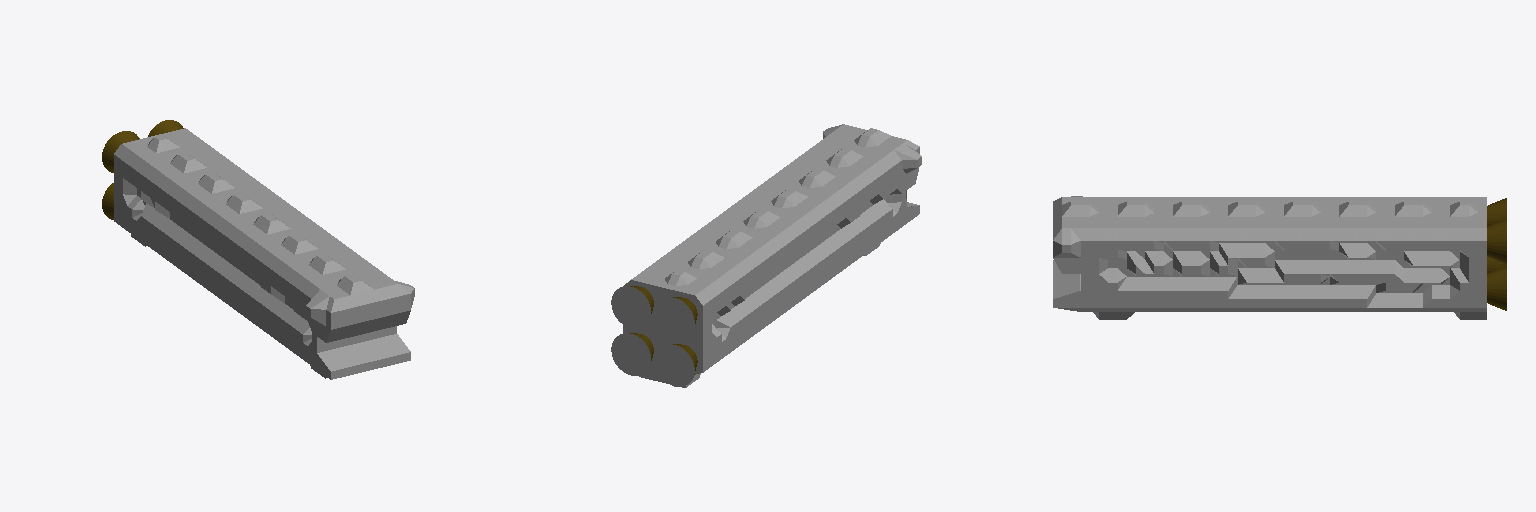
Rendered from space_ship.obj.
3 renders of one model, left to right at view 1: azimuth 30°, elevation 25°; view 2: azimuth 150°, elevation 25°; view 3: azimuth 270°, elevation 25°, orthographic.
Visible parts, largest first — view 1: Cylinder_2_Cylinder.009; view 2: Cylinder_2_Cylinder.009; view 3: Cylinder_2_Cylinder.009.
Part boxes in pixels (left/top/right/bottom): Cylinder_2_Cylinder.009: left=102, top=120, right=414, bottom=379; Cylinder_2_Cylinder.009: left=611, top=124, right=921, bottom=387; Cylinder_2_Cylinder.009: left=1053, top=196, right=1506, bottom=319.
Size of the model in its own units: 3.98 by 3.92 by 15.73.